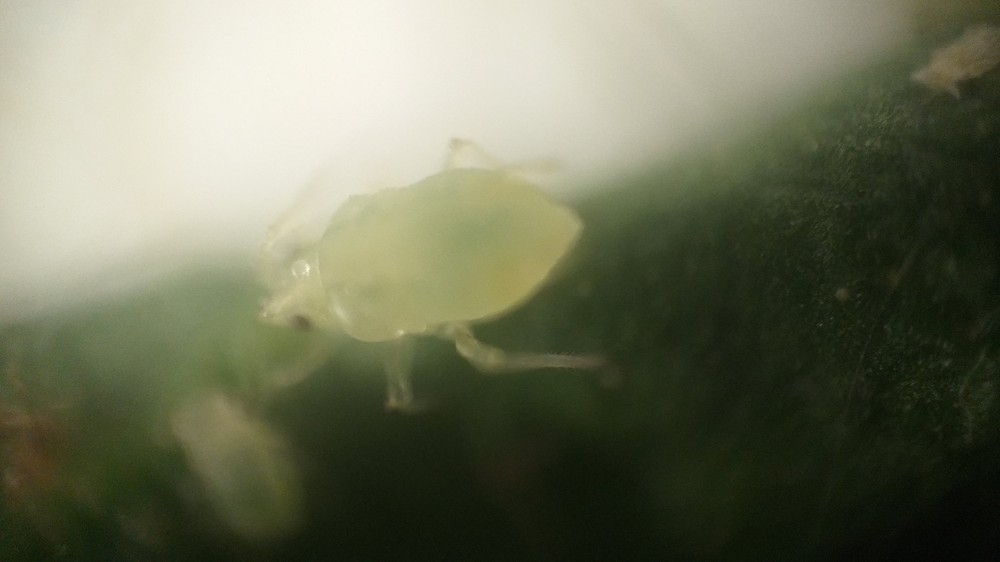Pulgon: (219, 111, 638, 448)
